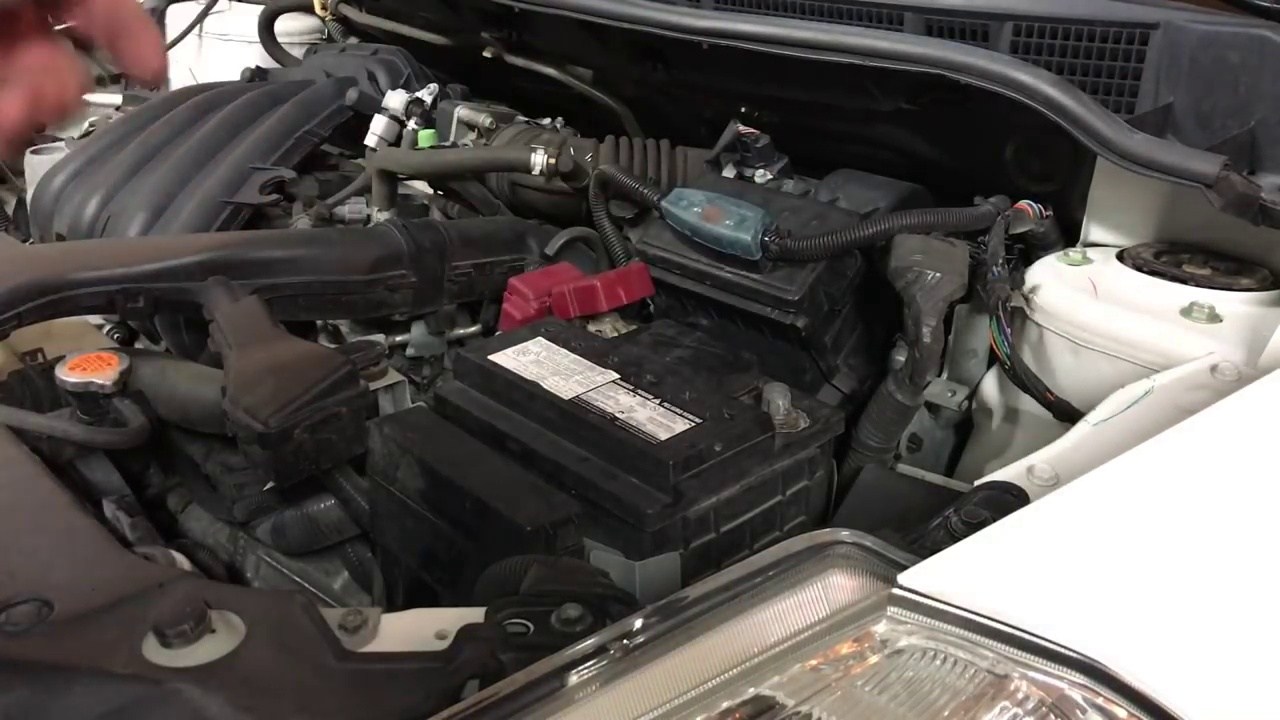battery: (448, 300, 828, 476)
neg_disconnected: (741, 360, 817, 438)
pos_connected: (486, 241, 662, 357)
